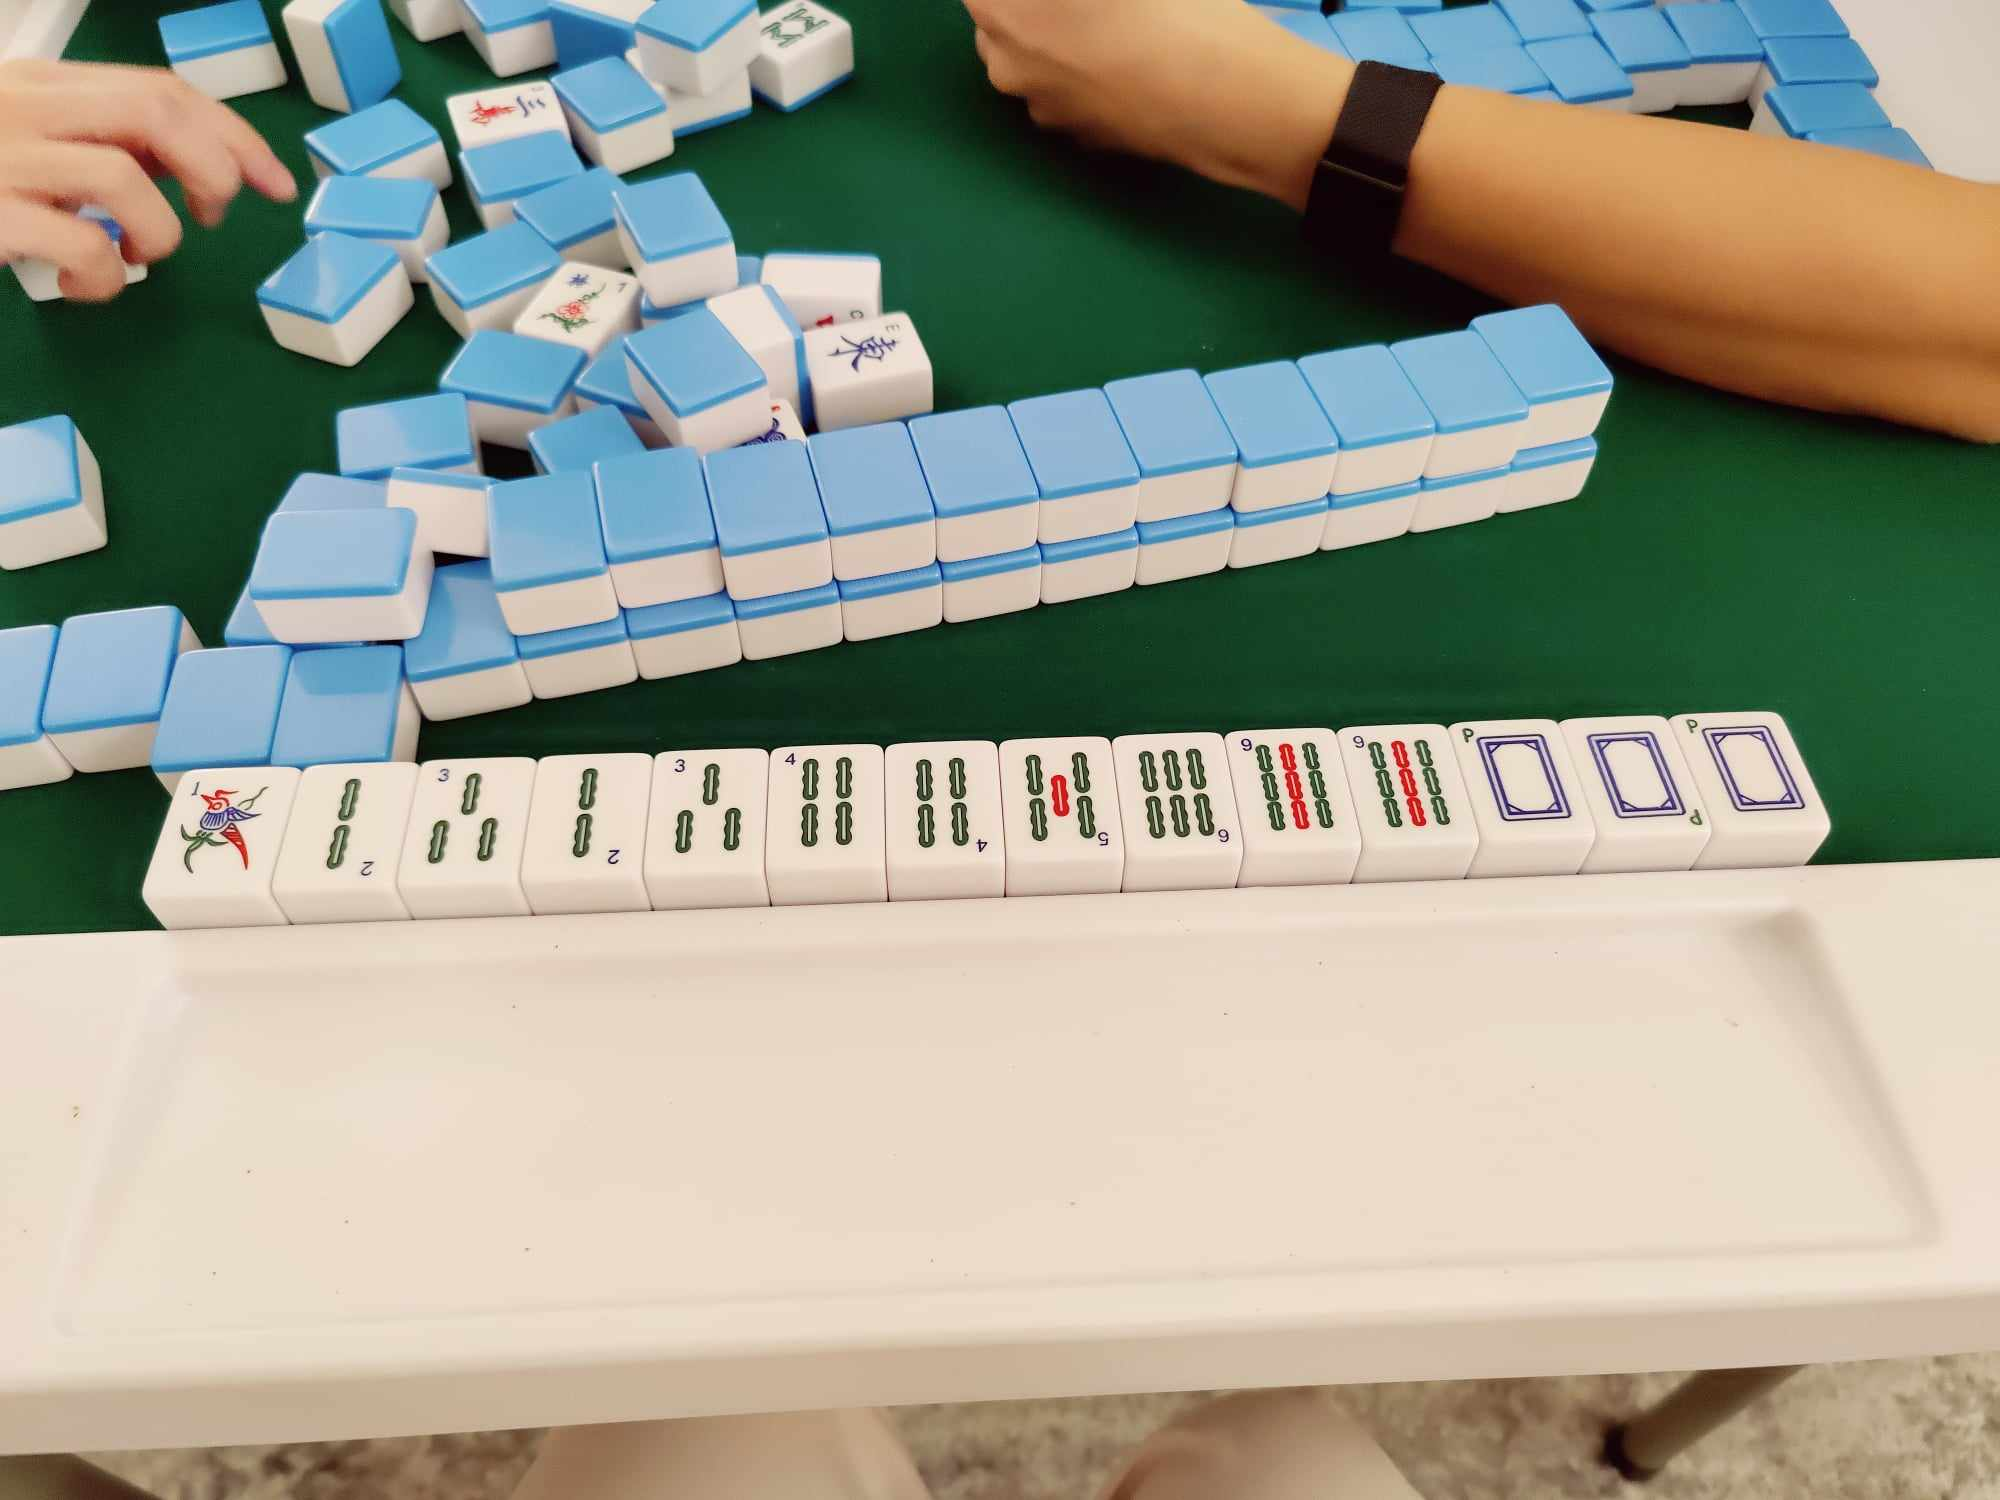bamboo-five: (1009, 744, 1113, 856)
bamboo-four: (773, 750, 885, 867), (898, 748, 995, 865)
bamboo-nine: (1346, 726, 1457, 837), (1236, 731, 1342, 841)
bamboo-one: (176, 772, 274, 882)
bamboo-six: (1128, 744, 1231, 856)
bamboo-three: (655, 755, 757, 862), (422, 759, 510, 878)
bamboo-two: (301, 769, 392, 889), (546, 758, 633, 871)
honor-blue_dragon: (1687, 714, 1809, 818), (1461, 718, 1569, 830), (1584, 723, 1682, 822)
